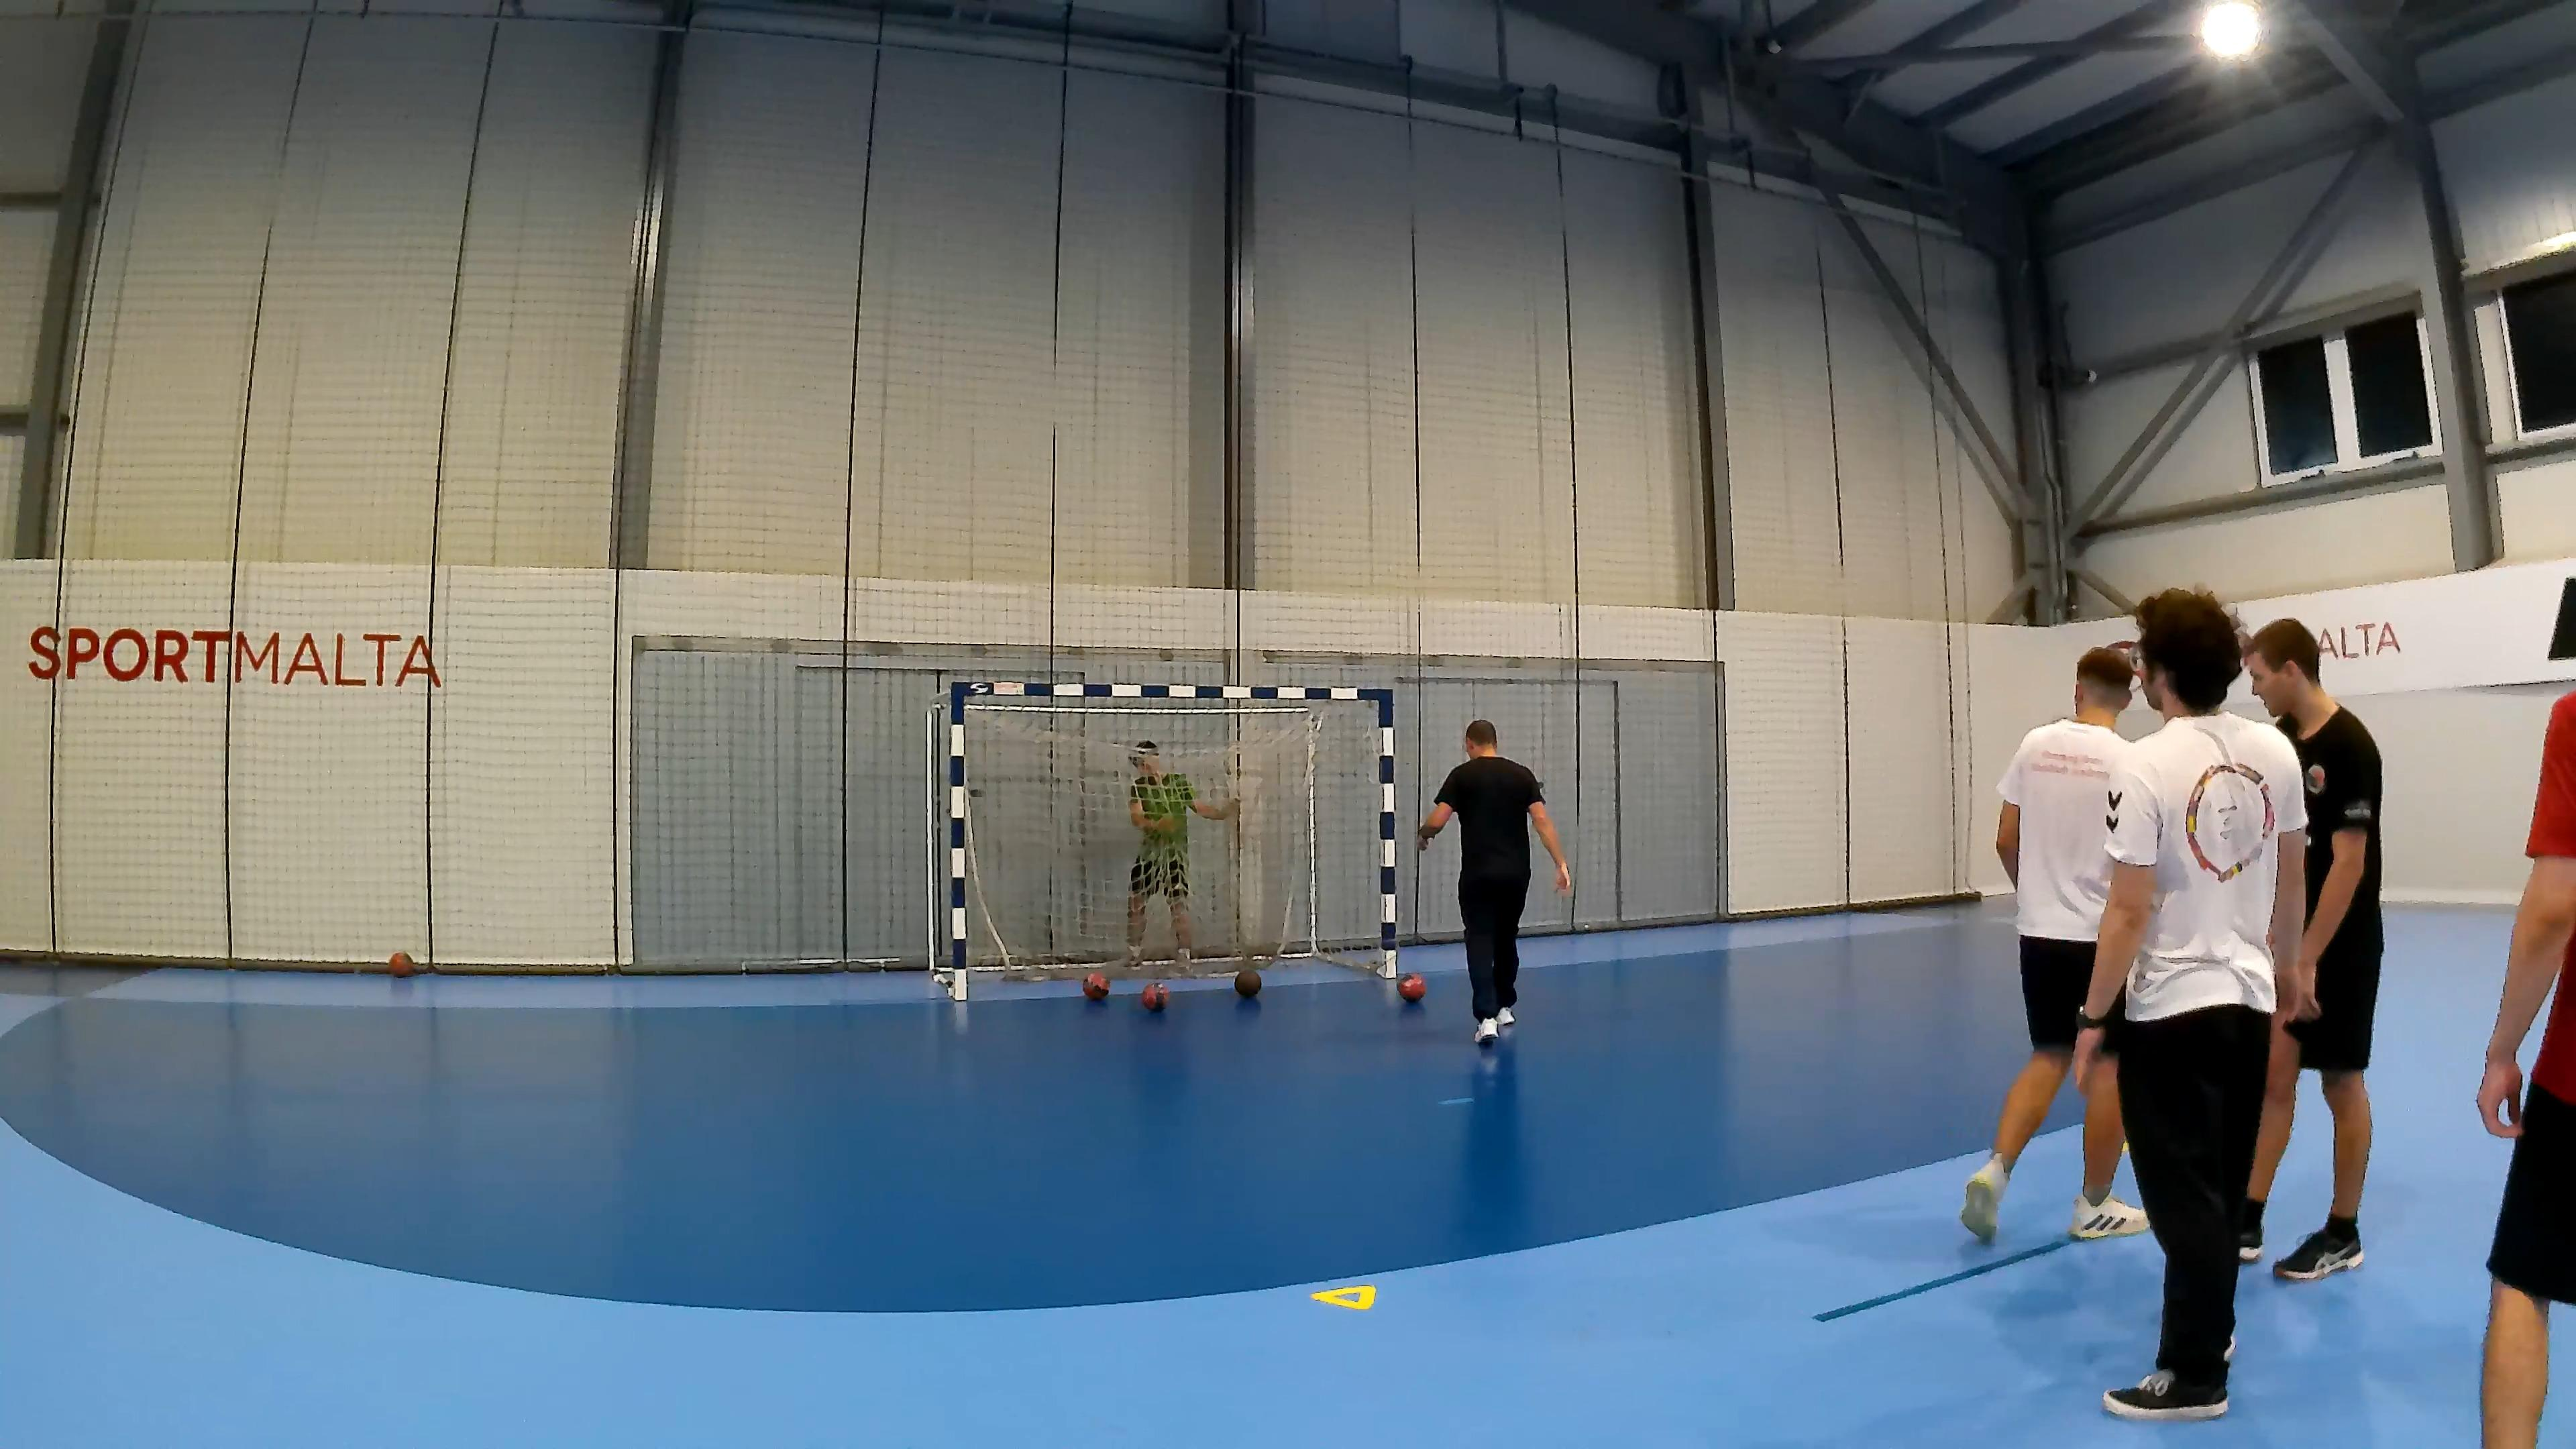handball: (1396, 971, 1424, 1001), (1081, 970, 1109, 1000), (1141, 982, 1169, 1010), (1233, 970, 1260, 998)
